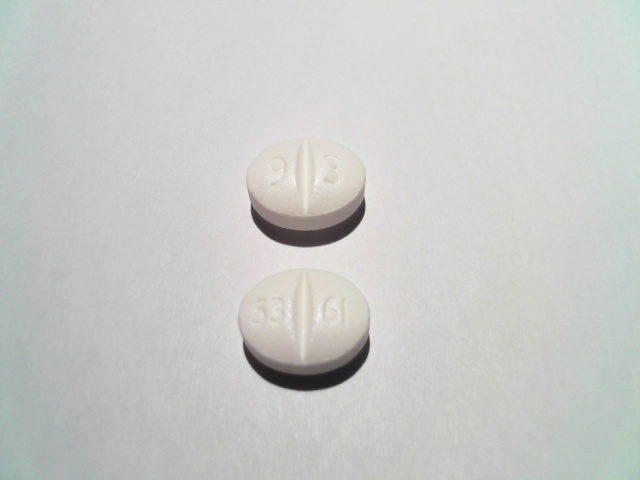1: (336, 291, 353, 329)
3: (316, 149, 348, 193), (264, 294, 290, 331), (251, 295, 269, 330)
6: (319, 289, 339, 329)
9: (263, 152, 290, 190)
|: (289, 129, 318, 232), (289, 264, 314, 378)
